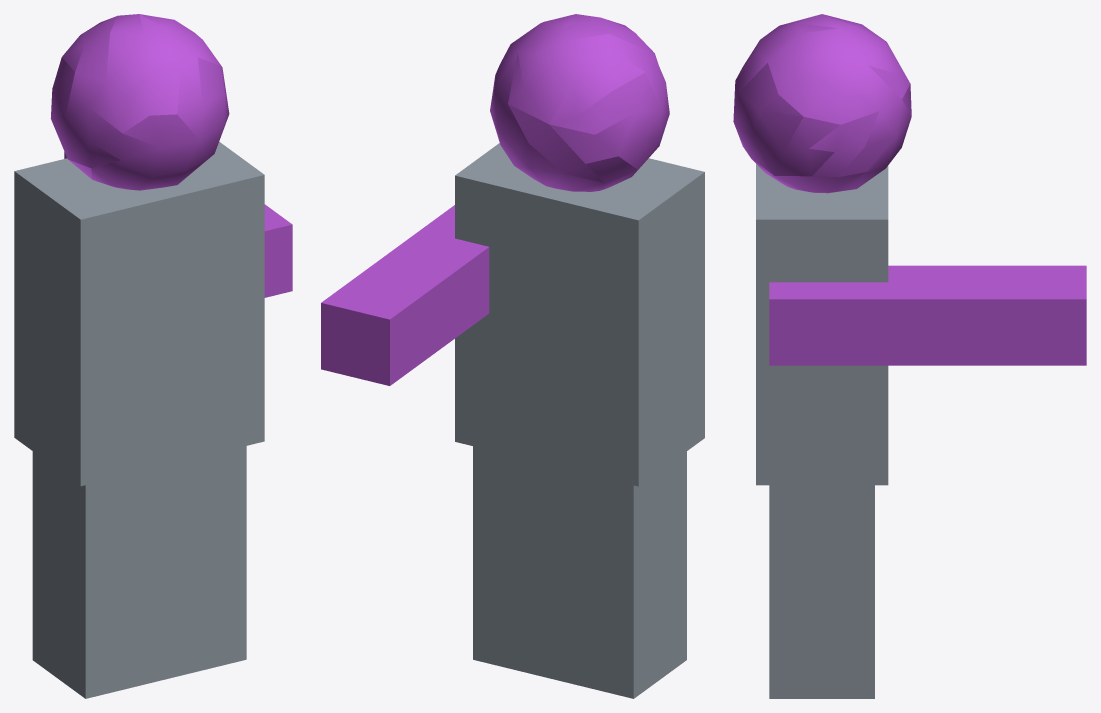
File: CH_CensorOperative_LOD2.glb
The picture shows the model from 3 angles, left to right: view 1: azimuth 30°, elevation 25°; view 2: azimuth 150°, elevation 25°; view 3: azimuth 270°, elevation 25°; orthographic projection.
Parts seen in each view (by area): view 1: Head; view 2: Head; view 3: Head.
Part boxes in pixels (bbox=[...]): Head: bbox=[14, 14, 292, 698]; Head: bbox=[321, 14, 704, 698]; Head: bbox=[733, 14, 1086, 698].
Bounding box in the file's own units: 61.75 × 172 × 86.81.
